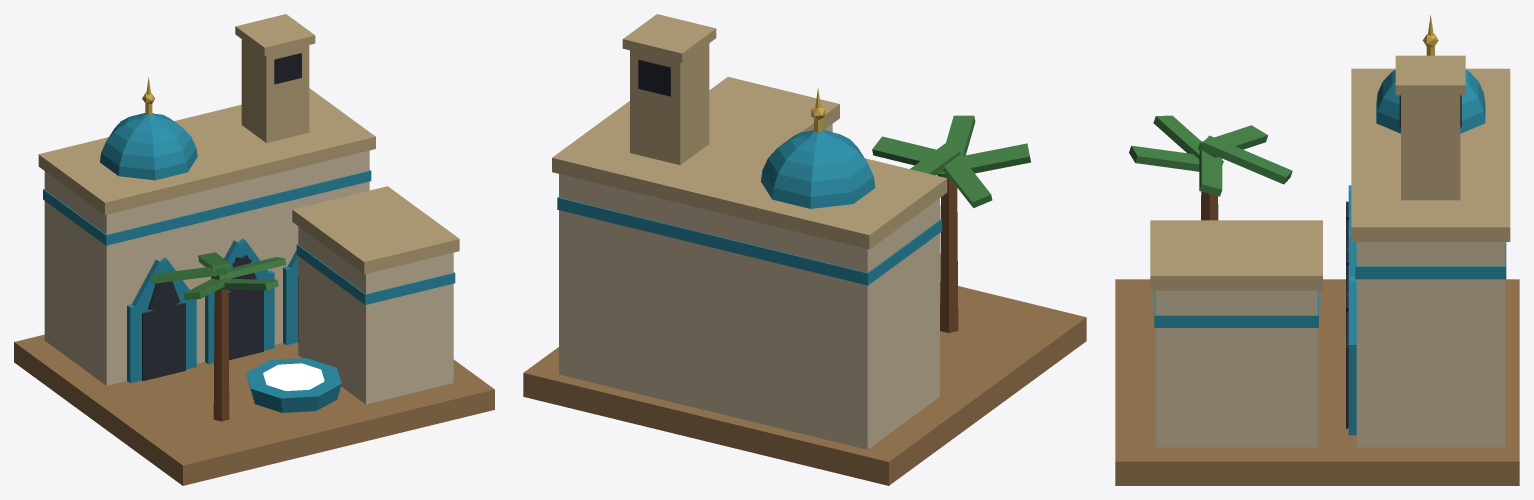
Rendered from house_t3.glb.
3 renders of one model, left to right at view 1: azimuth 30°, elevation 25°; view 2: azimuth 150°, elevation 25°; view 3: azimuth 270°, elevation 25°, orthographic. The views are drawn at different scales.
Visible parts, largest first — view 1: body, glow; view 2: body; view 3: body.
Part boxes in pixels (x1,y1,x2,y2): body: [14, 14, 494, 485]; glow: [263, 363, 324, 390]; body: [523, 14, 1086, 485]; body: [1115, 15, 1519, 485].
Bounding box in the file's own units: 1.6 × 1.49 × 1.5.
